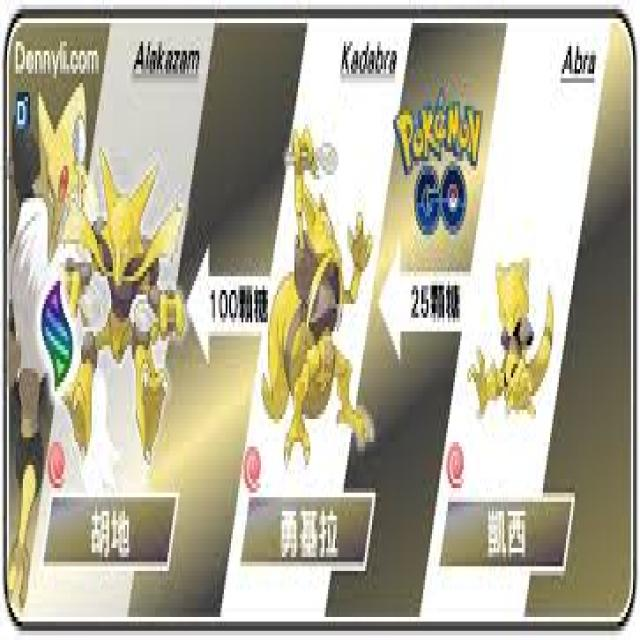Abra: (488, 255, 535, 406)
Alakazam: (81, 158, 164, 419)
Kadabra: (282, 165, 358, 438)
